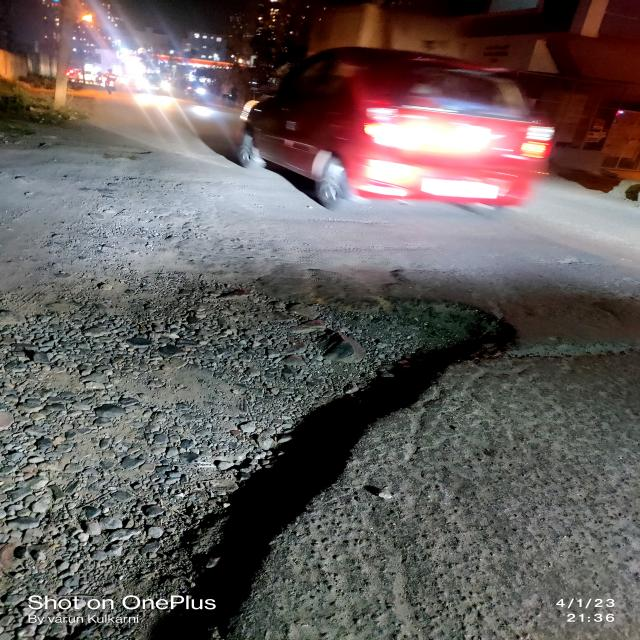potholes: (109, 286, 523, 638)
